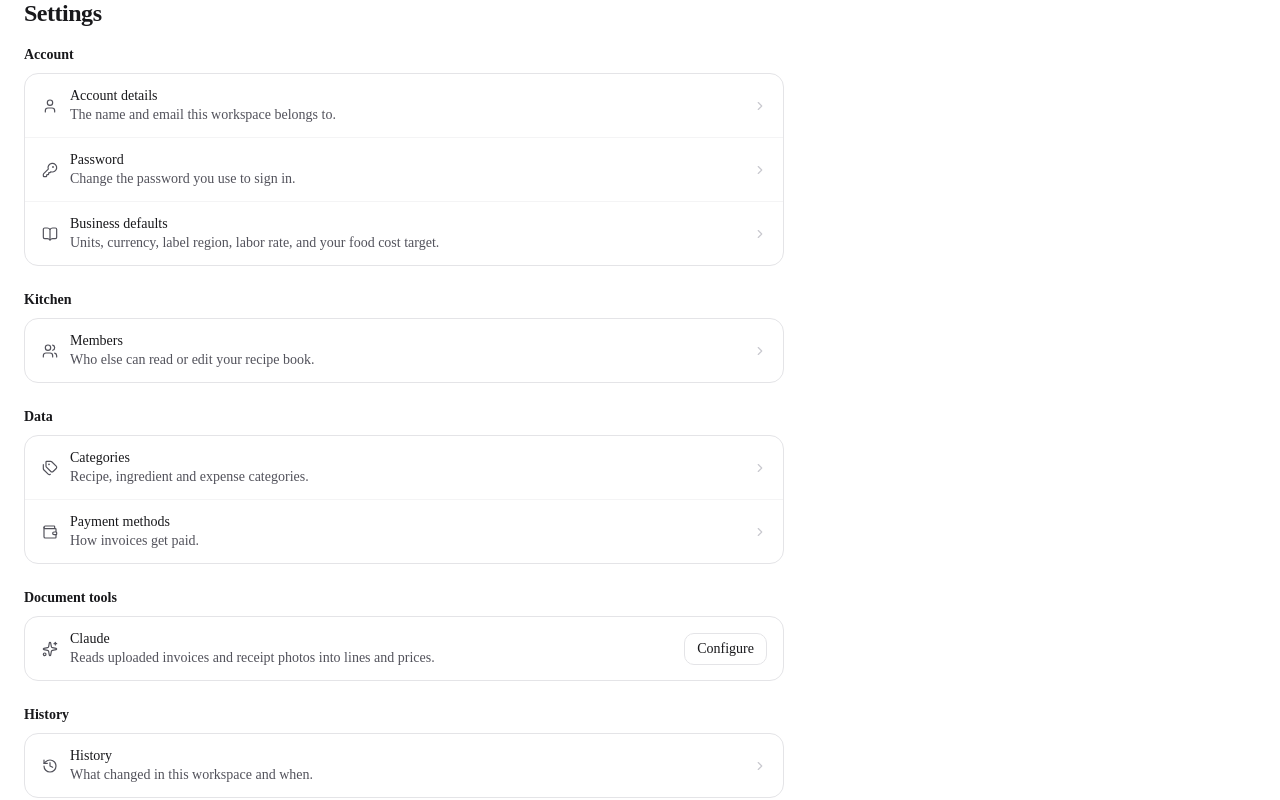
Test: account security › opens the password form from the Account group
Click the button "Password Change the password you use to sign in.". click: click(97, 160)
box: [25, 138, 783, 202]
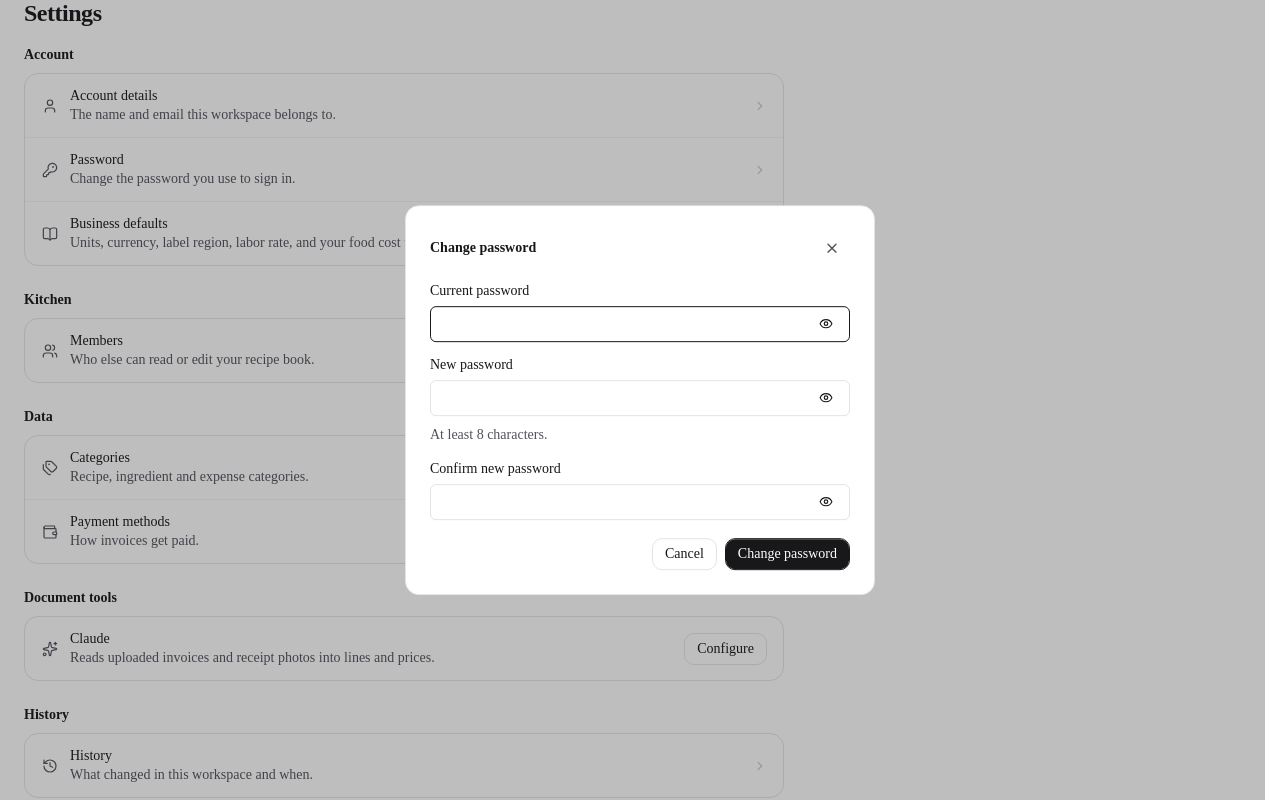
Expected: the heading "Change password" is shown, [430, 240, 536, 255]
Expected: the password field labelled "Current password" is shown, [430, 306, 850, 342]
